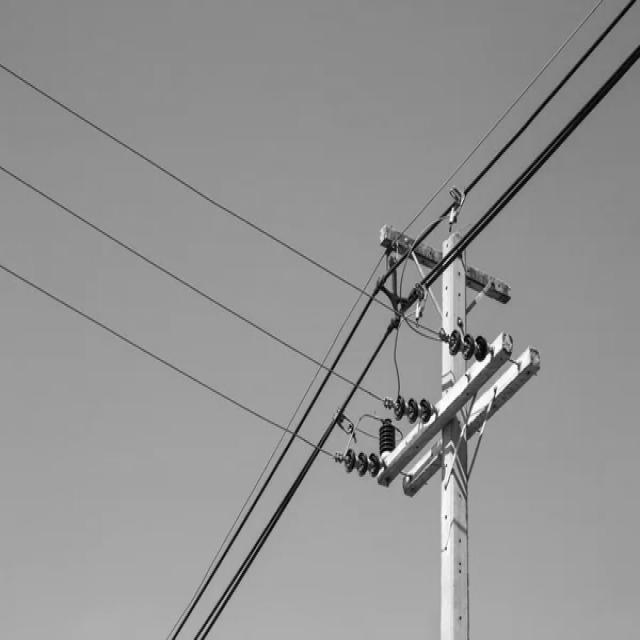Pole: (442, 216, 469, 640)
